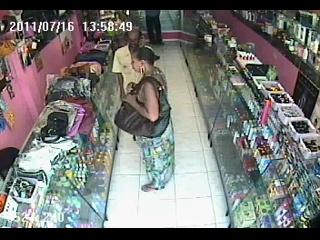Normal: (118, 46, 176, 192), (114, 77, 171, 138), (112, 27, 144, 100), (144, 10, 164, 45), (75, 50, 109, 66)
